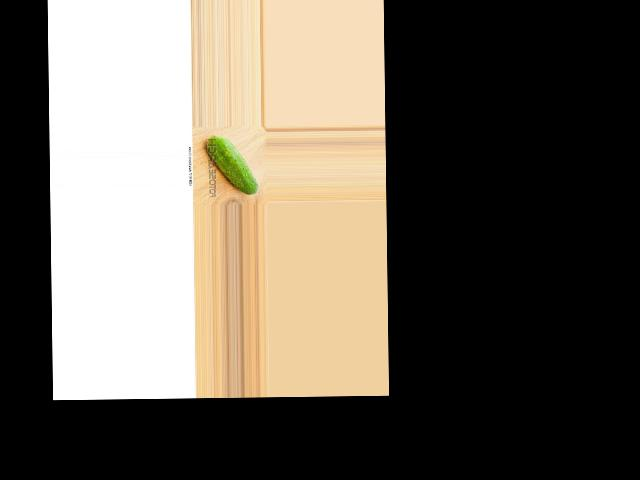cucumber: (206, 133, 258, 195)
